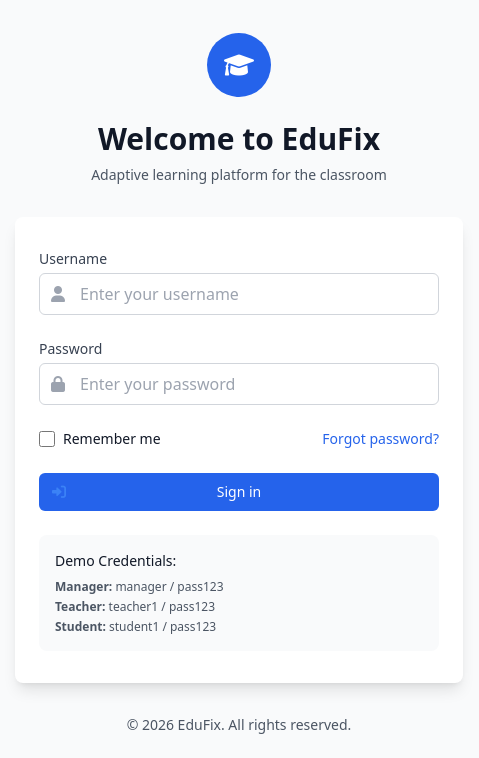
Test: Login Component › Error Handling › shows error message for invalid credentials
The image size is (479, 758).
Fill form with invalid credentials
Type "invalid" into the field labelled "Username". click: (239, 294)
box: [39,273,439,315]
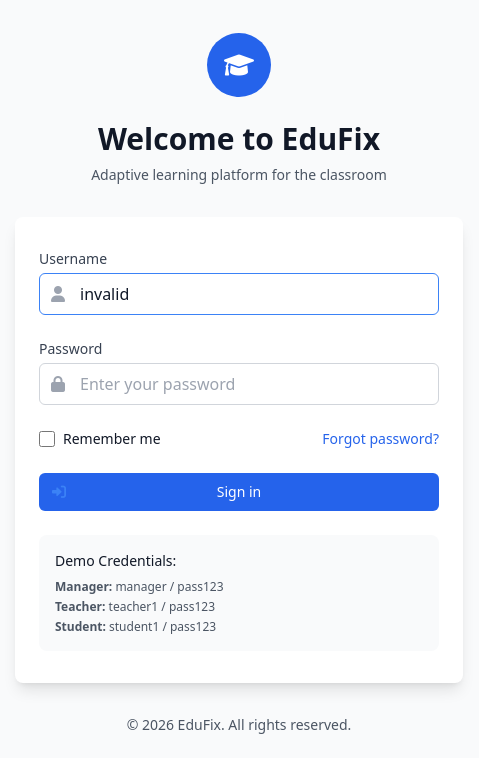
Type "wrongpass" into the password field labelled "Password". click: (239, 384)
box: [39,363,439,405]
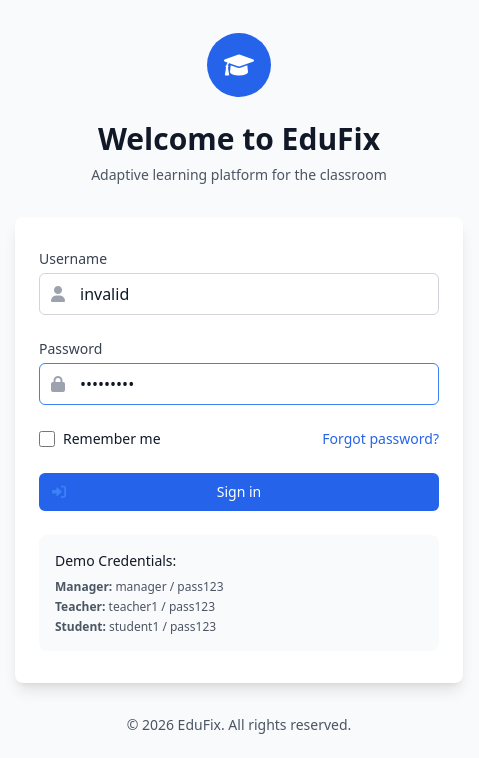
Submit form
Click the button "Sign in". click: click(239, 492)
box: [39,473,439,511]
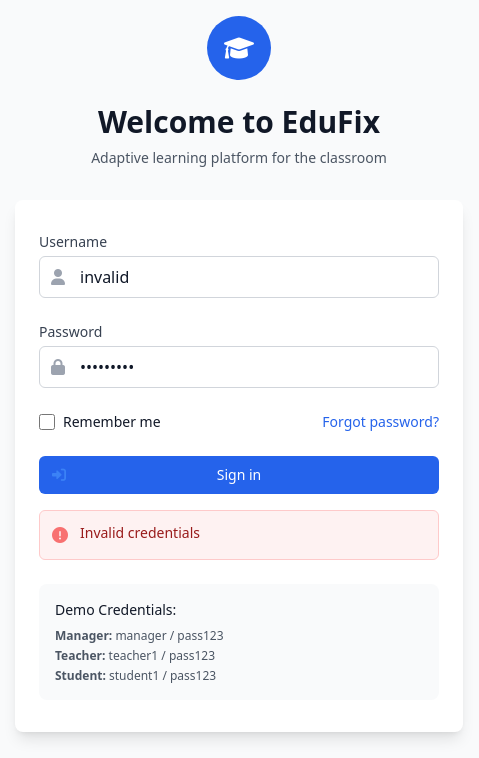
Result: the text "Invalid credentials" is shown at [80,523,200,543]
